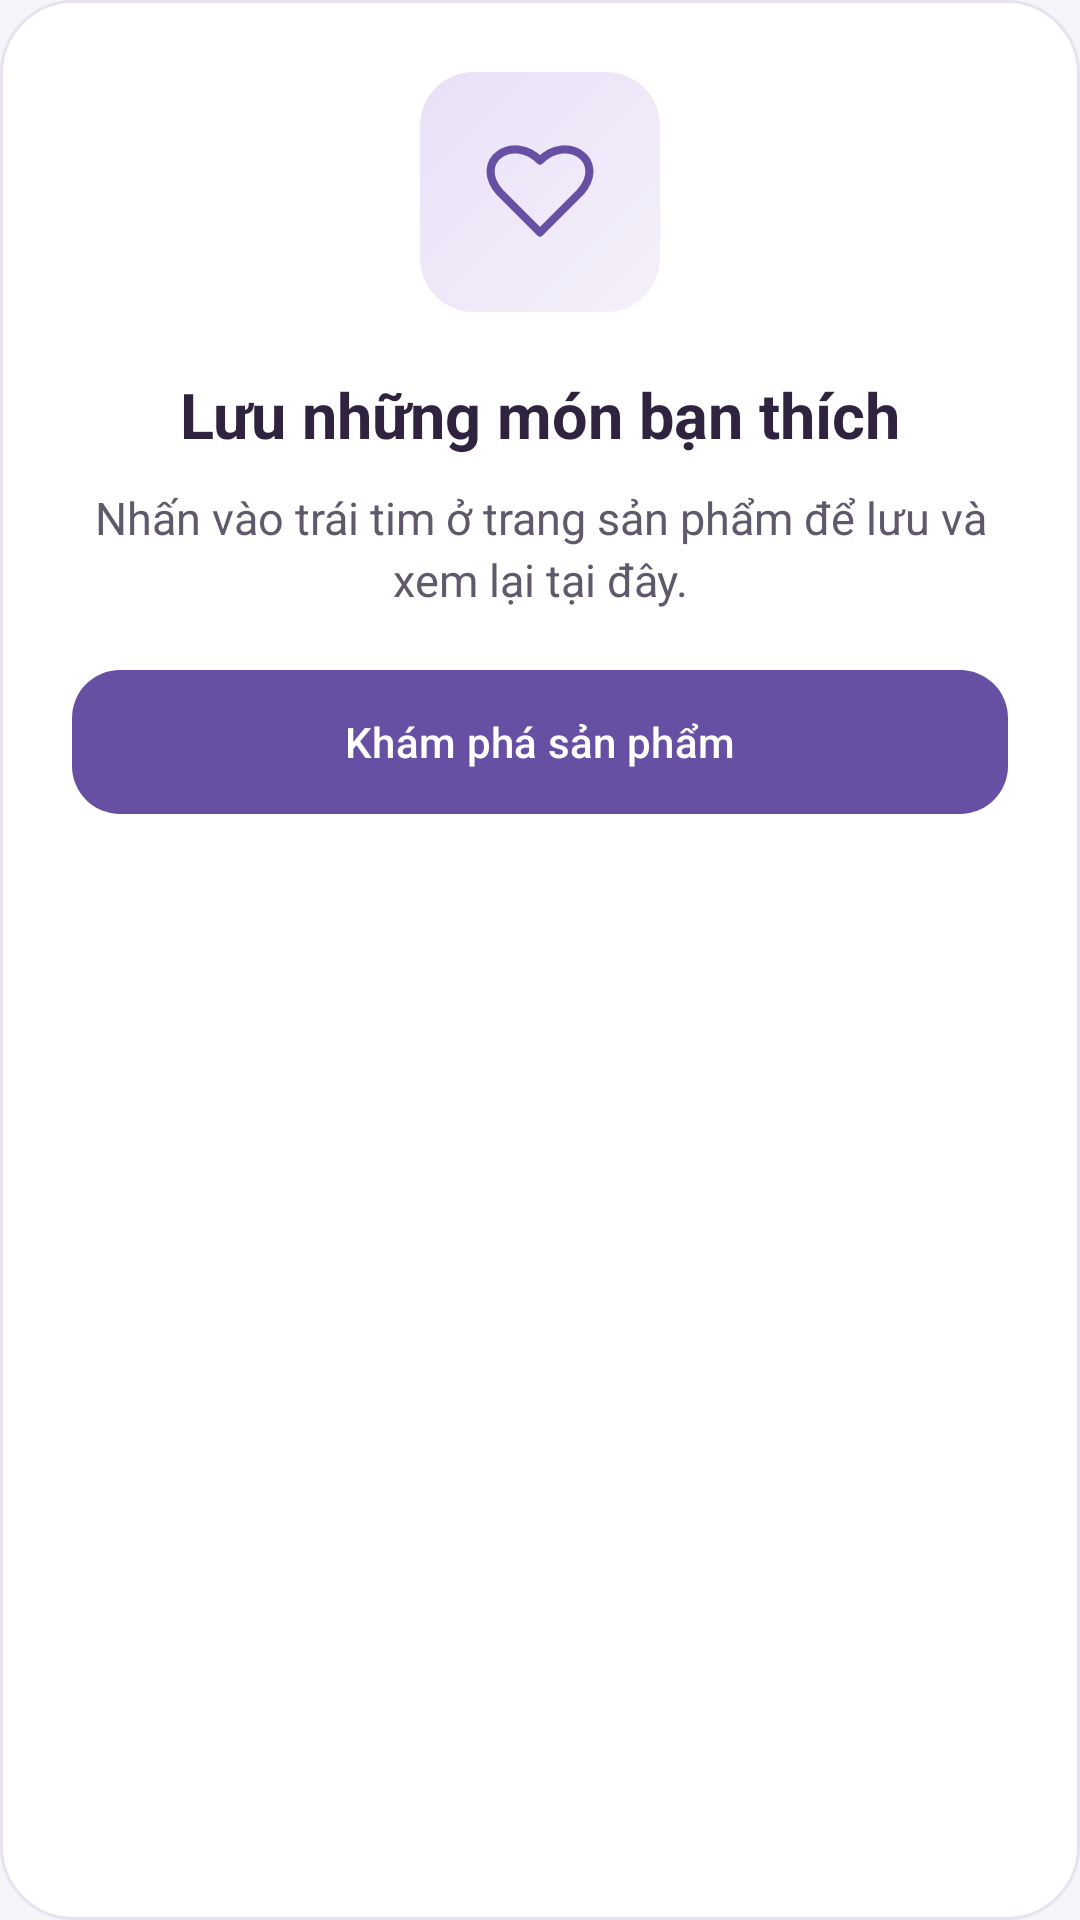

Named icons in this screenshot (1080 × 1920) and their bounding boxes, (x1, y1, x2, y2):
favorite: (420, 72, 613, 265)
